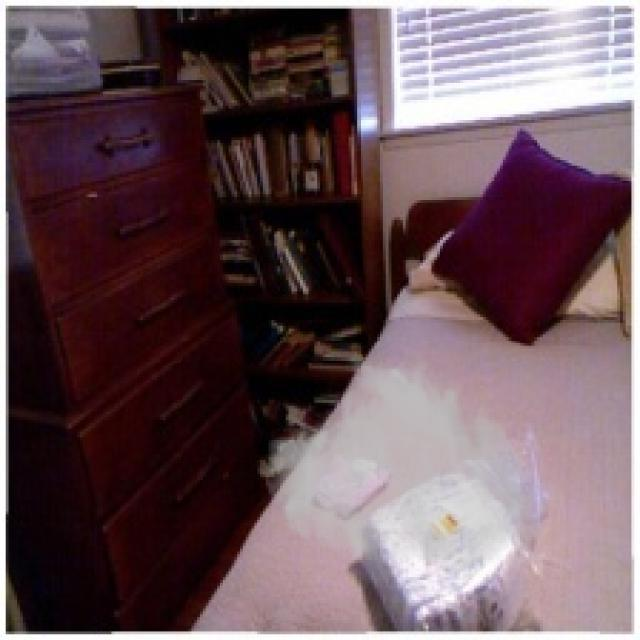Smoke: (262, 352, 538, 577)
